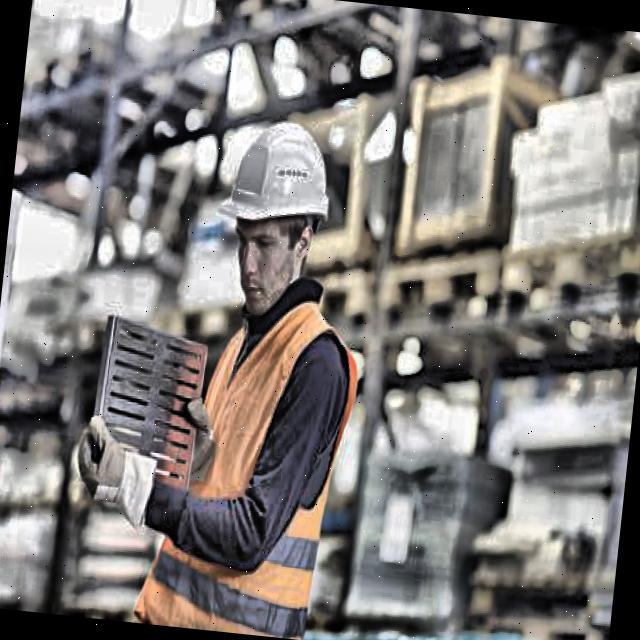helmet: (204, 95, 350, 326)
